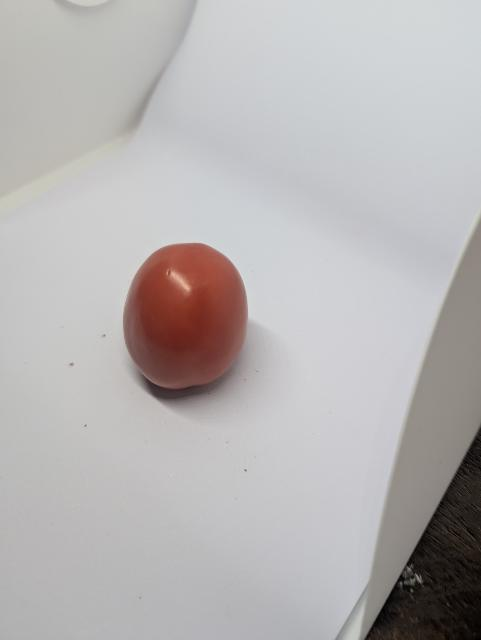red: (119, 242, 252, 392)
